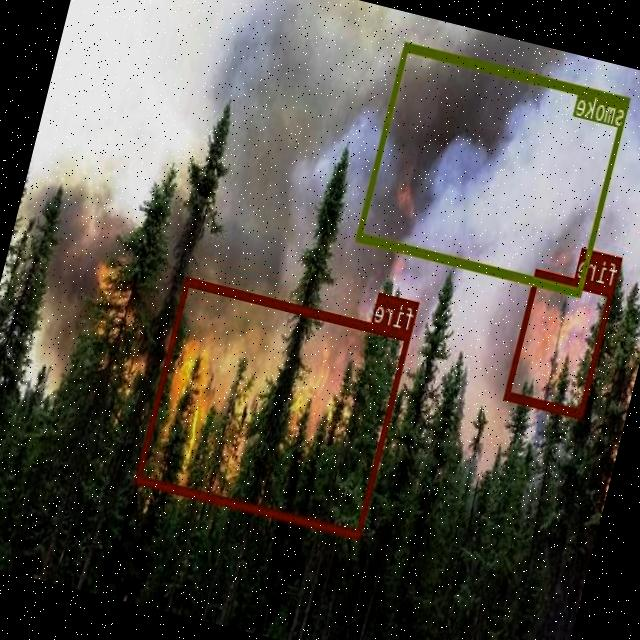fire: (135, 276, 412, 538), (504, 268, 615, 417)
smoke: (358, 42, 632, 294)
